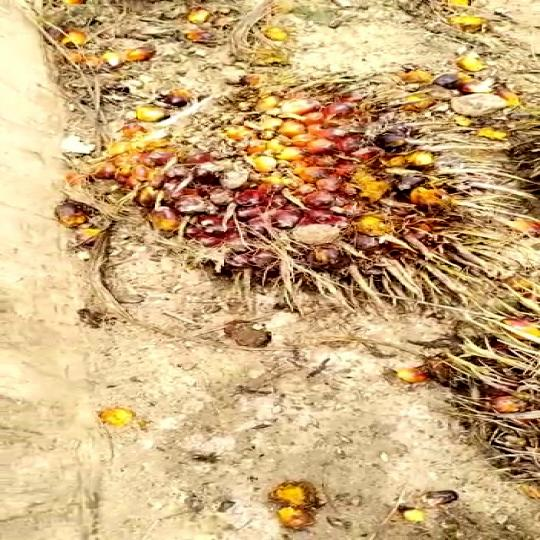masak: (72, 70, 512, 314)
